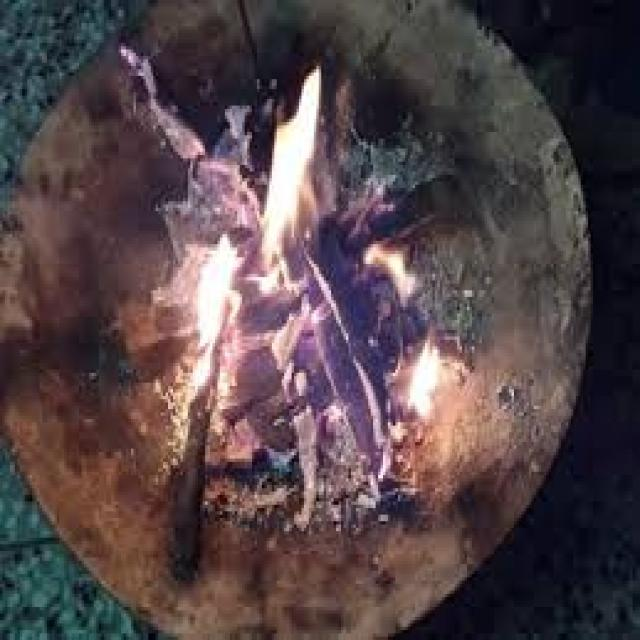fire: (254, 63, 319, 295), (191, 234, 241, 392), (364, 241, 416, 307), (407, 338, 439, 420)
